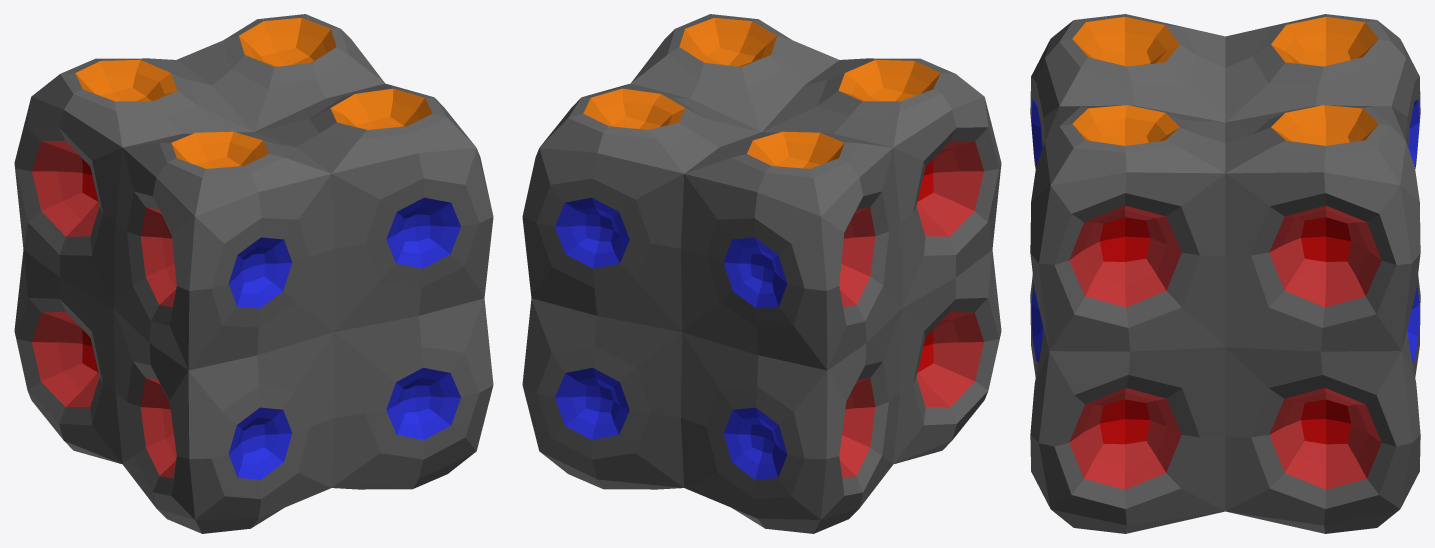
Rendered from cool cube.glb.
3 views of the same model, side by side, from view 1: azimuth 30°, elevation 25°; view 2: azimuth 150°, elevation 25°; view 3: azimuth 270°, elevation 25° (orthographic). The views are drawn at different scales.
Visible parts, largest first — view 1: Cube; view 2: Cube; view 3: Cube.
Boxes of the visible parts, x1=… form: Cube: x1=14, y1=14, x2=493, y2=533; Cube: x1=522, y1=14, x2=1001, y2=533; Cube: x1=1030, y1=14, x2=1420, y2=533.
Size of the model in its own units: 1.93 by 2.12 by 1.94.
